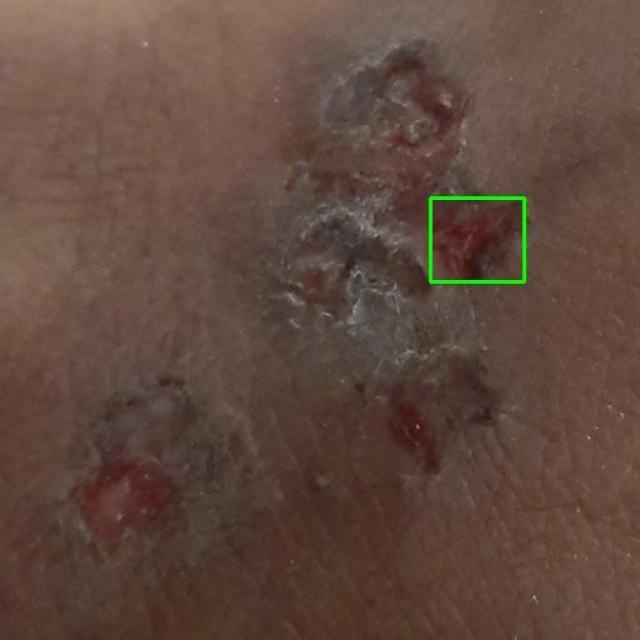Eczema: (430, 198, 524, 281)
